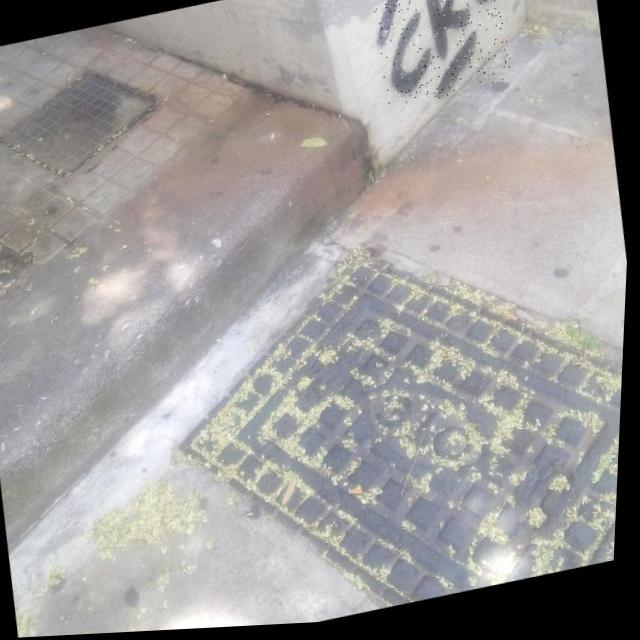-: (362, 0, 518, 115)
